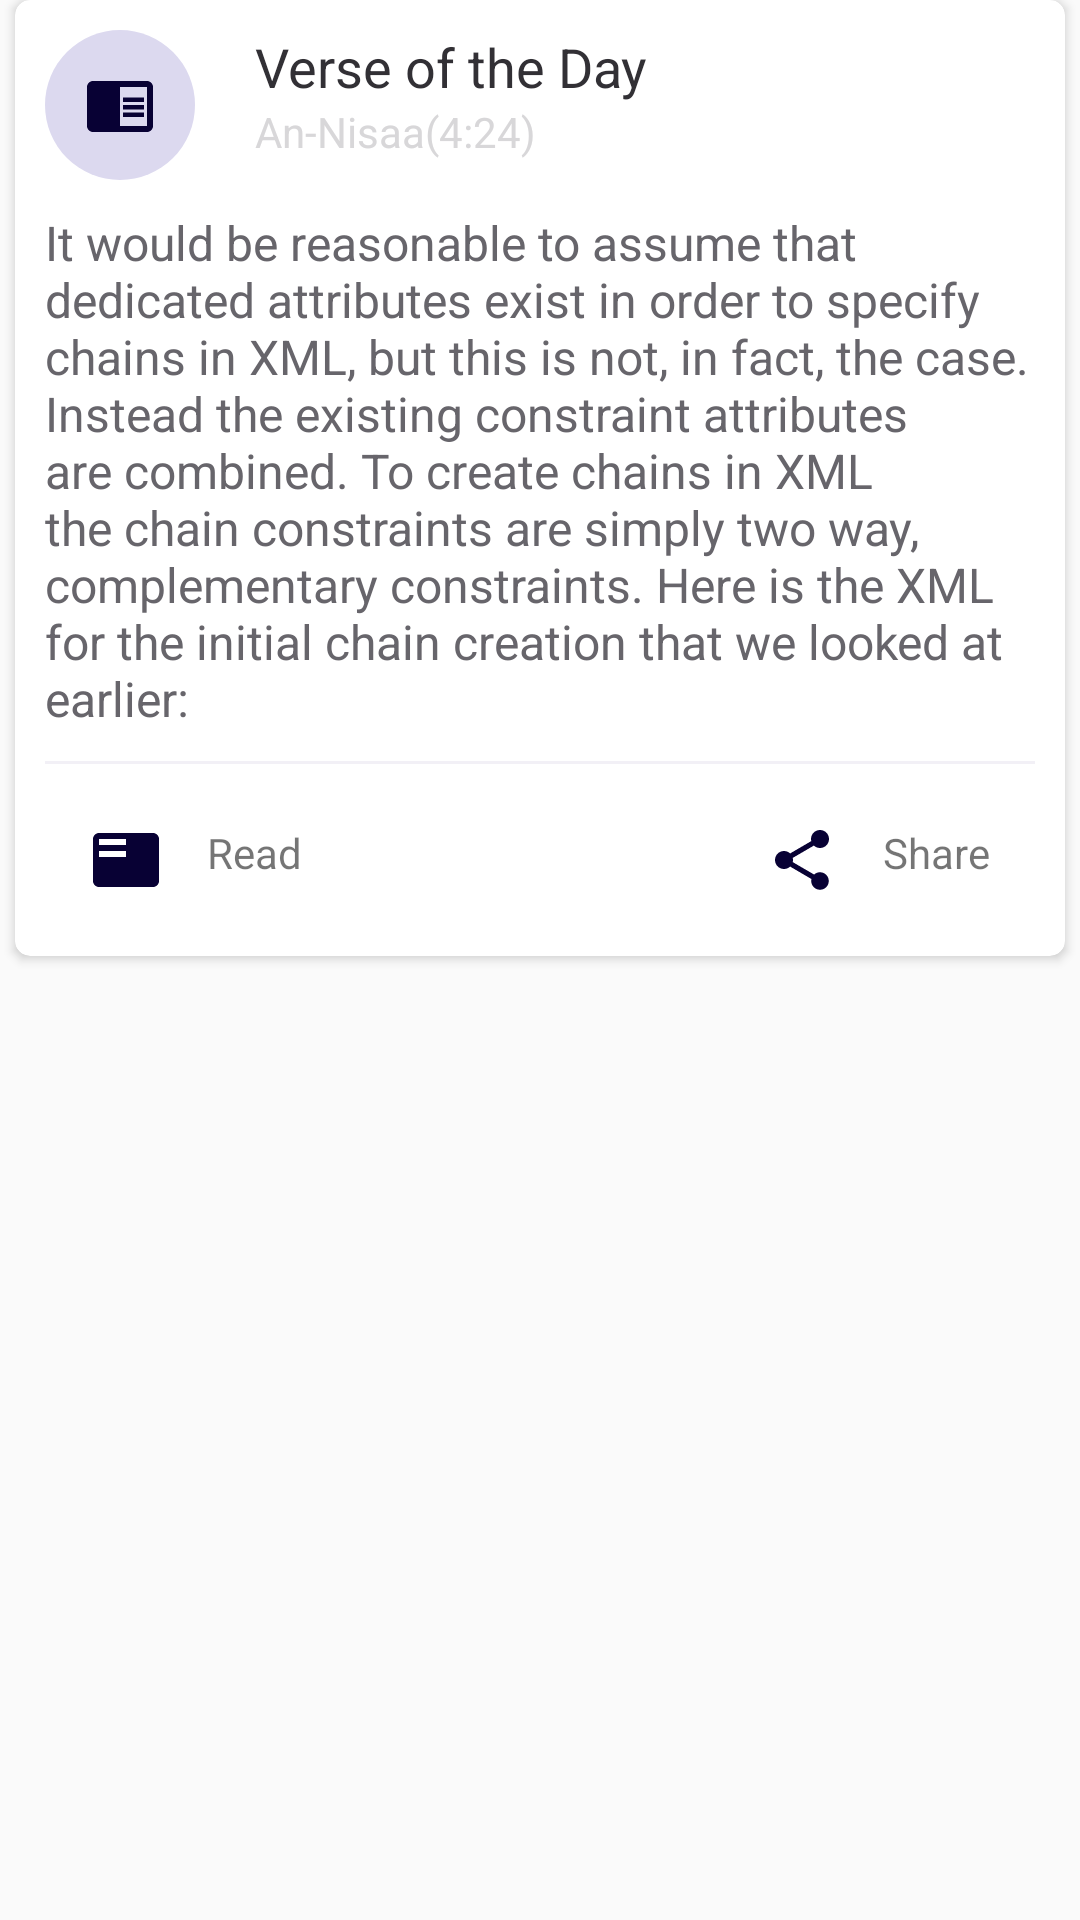

Icon bounding boxes for this 1080px x 1920px phone screenshot, format detection(x1, y1, x2, y2):
chrome reader mode: detection(87, 81, 153, 132)
